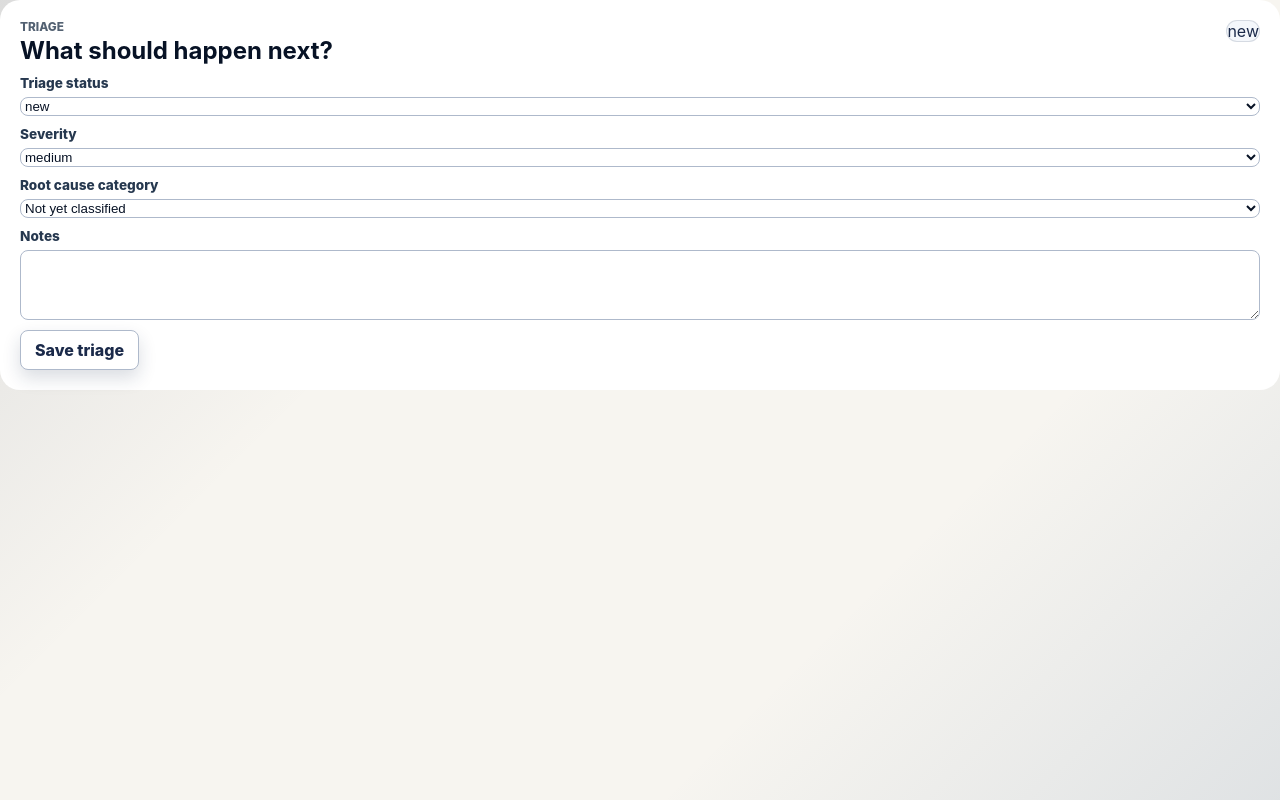
CandidateTriageForm › saves a triage status update via PATCH
Select "triaged" in the dropdown labelled "Triage status" at point(640, 106), box [20,97,1260,116]
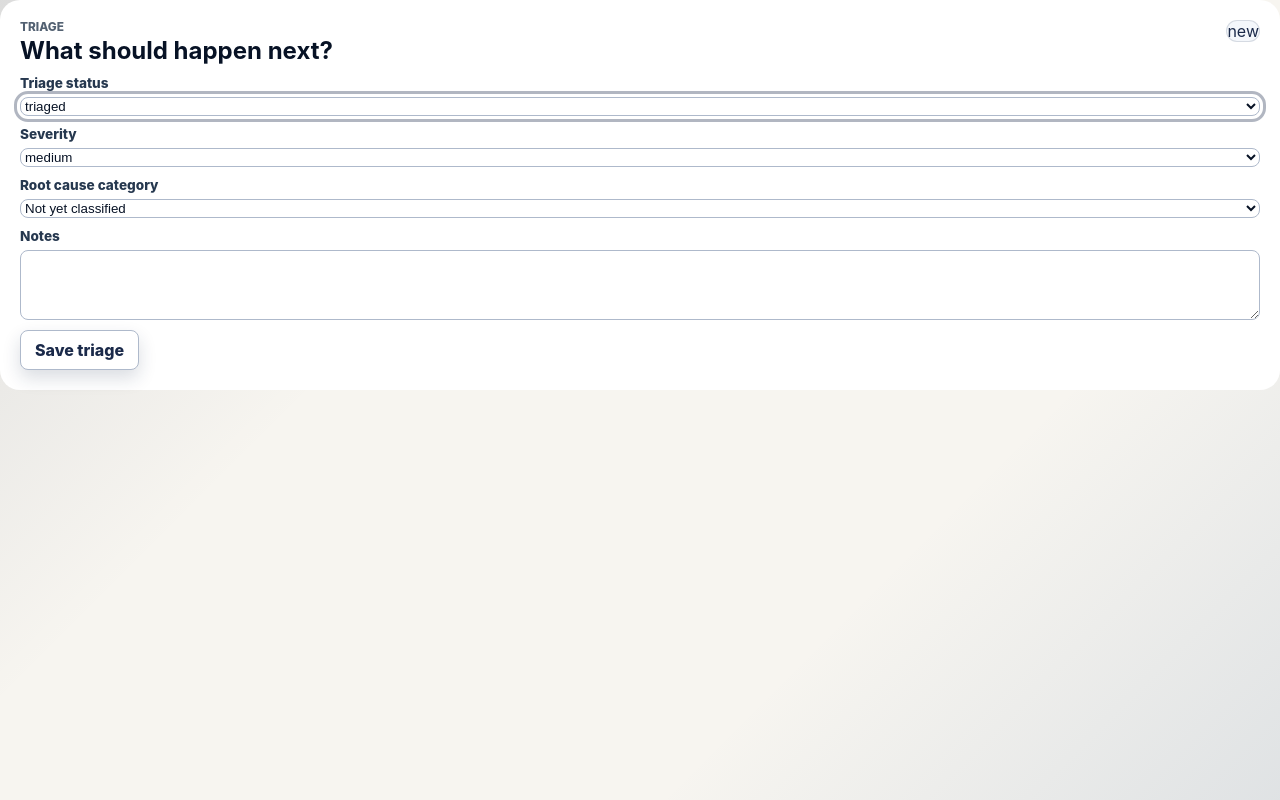
Click the button "Save triage" at point(80, 350), box [20,330,139,370]
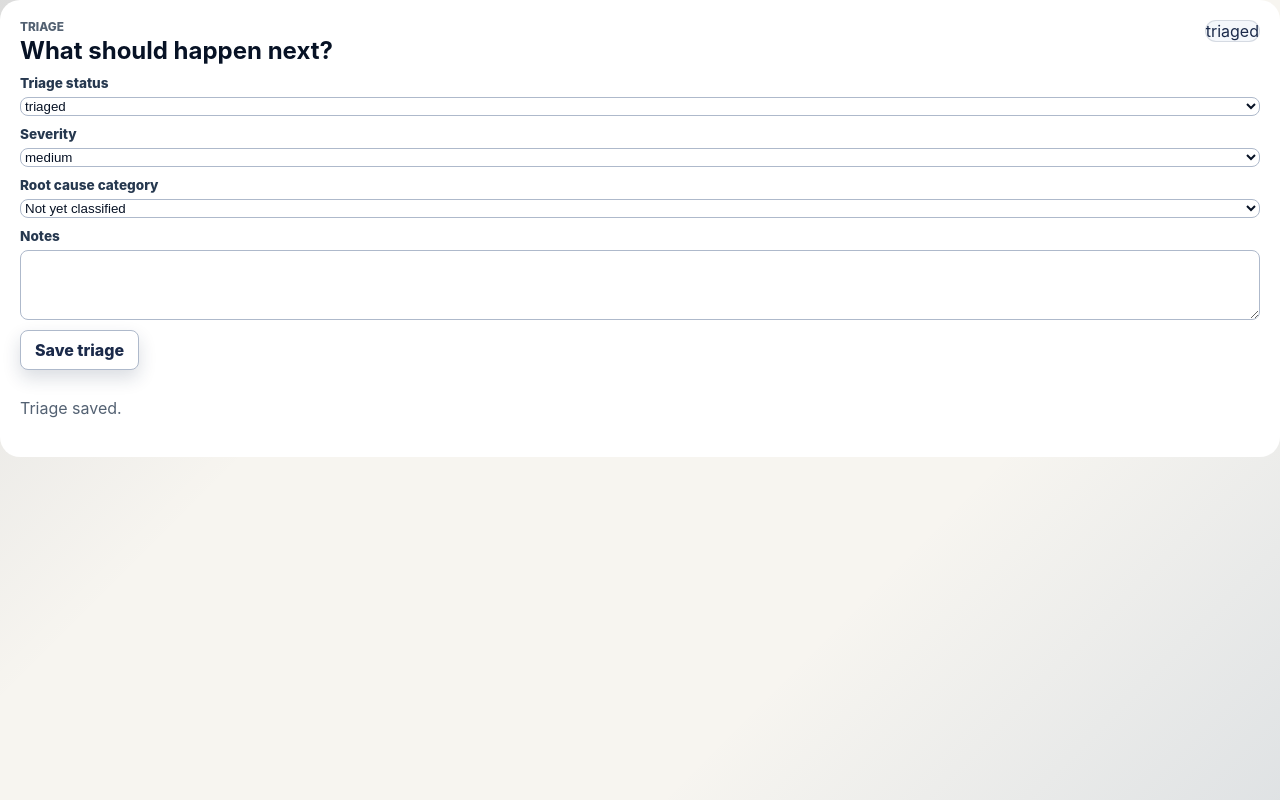
Now the text "Triage saved." is shown, box [20,398,122,418]
